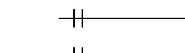115_buffer: (73, 9, 83, 28)
